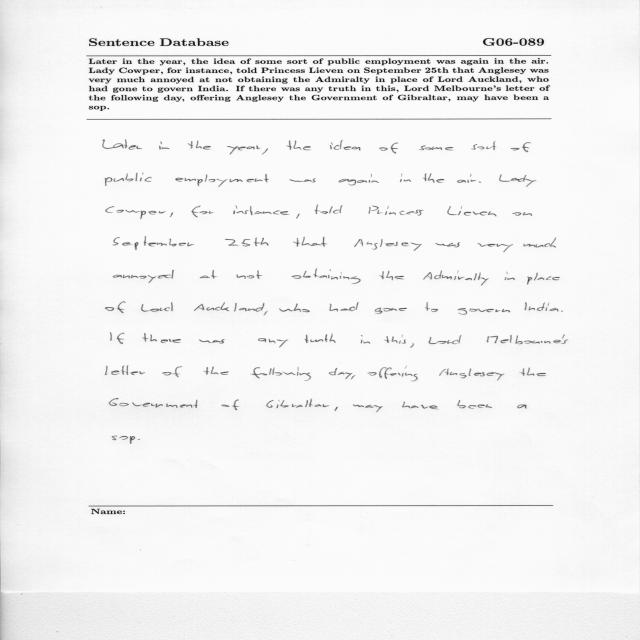word: (175, 174, 269, 187), (423, 270, 489, 286), (113, 237, 194, 250), (292, 269, 361, 284), (194, 303, 268, 316), (109, 398, 198, 408), (439, 368, 505, 381), (251, 367, 311, 381), (354, 239, 422, 251), (487, 334, 568, 344), (113, 270, 174, 283), (106, 206, 166, 219), (105, 173, 152, 186), (233, 206, 290, 216), (266, 399, 329, 408), (369, 206, 424, 216), (379, 367, 418, 381), (447, 206, 497, 216), (499, 174, 536, 187), (338, 174, 379, 185), (527, 273, 560, 285), (103, 140, 142, 150), (142, 333, 181, 343), (225, 238, 268, 247), (458, 308, 510, 315), (523, 237, 556, 248), (105, 366, 145, 375), (330, 140, 361, 151), (293, 237, 327, 247), (525, 302, 559, 312), (477, 243, 513, 252), (141, 302, 173, 312), (457, 400, 492, 409), (305, 333, 336, 343), (258, 338, 288, 348), (227, 146, 260, 155), (429, 335, 462, 344), (329, 368, 356, 379), (191, 206, 214, 218), (329, 302, 359, 311), (314, 205, 343, 214), (402, 402, 439, 409), (286, 141, 311, 151), (519, 367, 546, 376), (380, 271, 404, 281), (353, 404, 383, 412), (203, 366, 229, 375), (374, 307, 407, 314), (471, 141, 496, 150), (237, 270, 262, 279), (106, 302, 126, 313), (162, 367, 182, 378), (423, 173, 444, 183), (379, 143, 398, 154), (188, 141, 211, 150), (511, 142, 531, 152), (384, 335, 406, 344), (222, 399, 240, 410), (112, 436, 135, 444), (457, 174, 476, 183), (419, 146, 453, 151), (111, 333, 125, 344), (200, 270, 217, 279), (293, 304, 310, 313), (289, 178, 316, 183), (425, 302, 438, 312), (199, 339, 225, 344), (436, 242, 460, 247), (361, 335, 371, 344), (159, 142, 170, 150), (400, 174, 411, 182), (504, 272, 515, 280), (512, 212, 532, 216), (279, 308, 293, 312), (262, 148, 268, 155), (367, 372, 377, 376), (517, 405, 527, 409), (296, 214, 300, 219), (410, 343, 414, 348), (334, 407, 338, 411), (170, 212, 173, 217), (561, 310, 563, 312), (479, 182, 481, 183), (138, 439, 140, 440)
